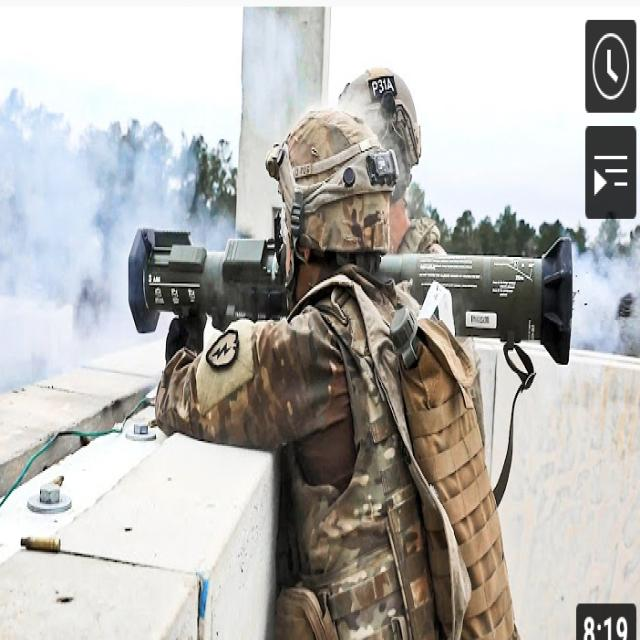bazooka: (94, 175, 595, 446)
